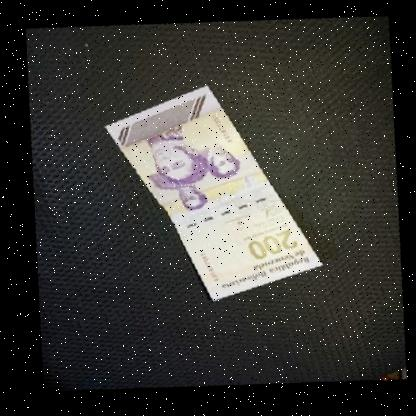two_hundred-front-vef: (79, 69, 345, 319)
